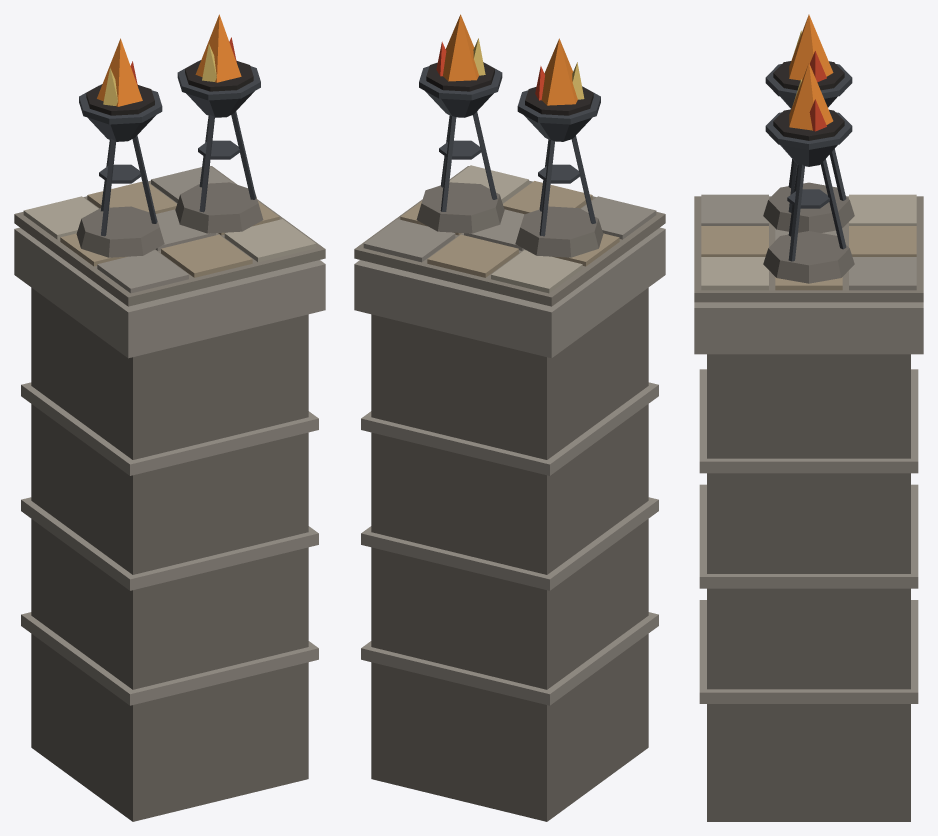
File: decor_brazier_pair.glb
3 views of the same model, side by side, from view 1: azimuth 30°, elevation 25°; view 2: azimuth 150°, elevation 25°; view 3: azimuth 270°, elevation 25° (orthographic).
Visible parts, largest first — view 1: decor_brazier_pair; view 2: decor_brazier_pair; view 3: decor_brazier_pair.
Part boxes in pixels (left/top/right/bottom): decor_brazier_pair: left=14, top=14, right=325, bottom=821; decor_brazier_pair: left=354, top=14, right=665, bottom=821; decor_brazier_pair: left=694, top=14, right=923, bottom=821.
Size of the model in its own units: 1.8 by 6.42 by 1.8.
